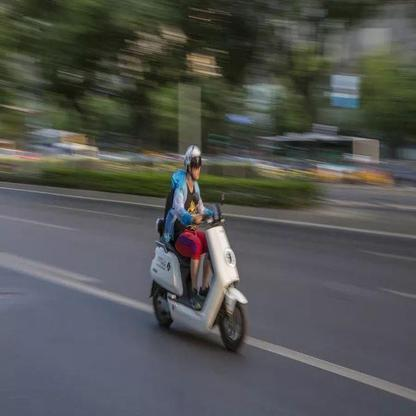target: (148, 144, 254, 353)
